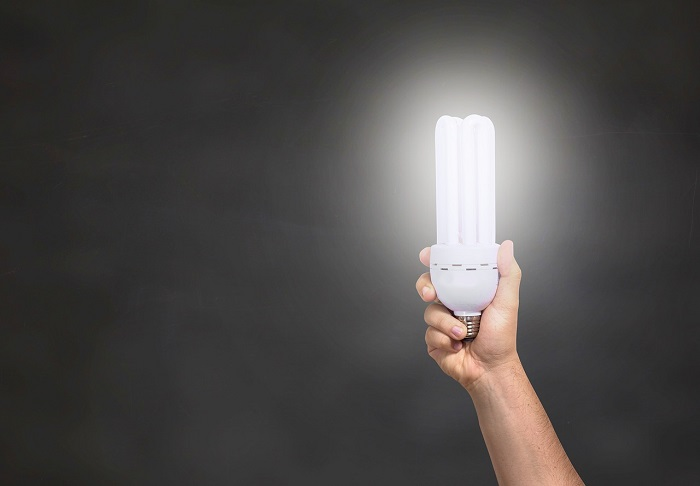Light_bulb: (417, 96, 515, 340)
